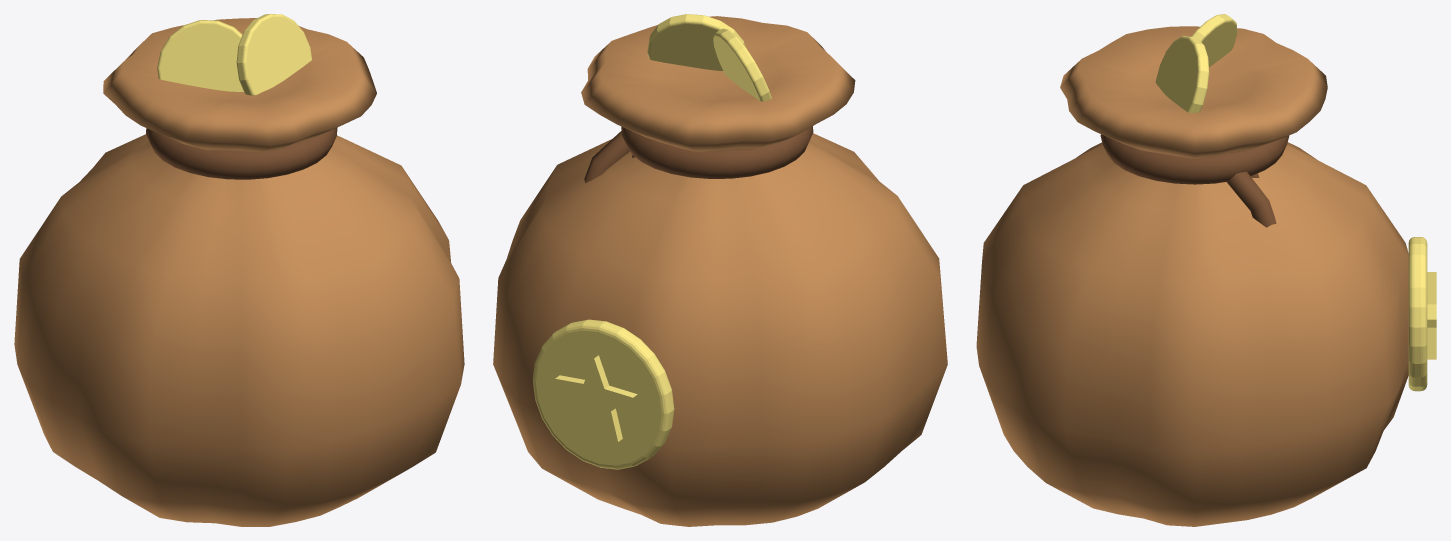
File: CoinBag.obj
3 views of the same model, side by side, from view 1: azimuth 30°, elevation 25°; view 2: azimuth 150°, elevation 25°; view 3: azimuth 270°, elevation 25° (orthographic). The views are drawn at different scales.
Visible parts, largest first — view 1: Sack, Emblem, Rope; view 2: Sack, Emblem, Rope; view 3: Sack, Emblem, Rope.
Boxes of the visible parts, left/top/right/bottom form: Sack: left=14, top=18, right=464, bottom=526; Emblem: left=157, top=14, right=312, bottom=95; Rope: left=146, top=127, right=337, bottom=179; Sack: left=493, top=16, right=947, bottom=526; Emblem: left=532, top=14, right=771, bottom=469; Rope: left=584, top=126, right=813, bottom=182; Sack: left=976, top=26, right=1408, bottom=526; Emblem: left=1155, top=14, right=1436, bottom=391; Rope: left=1100, top=134, right=1289, bottom=227.
Bounding box in the file's own units: 2.87 × 3.18 × 2.97.
